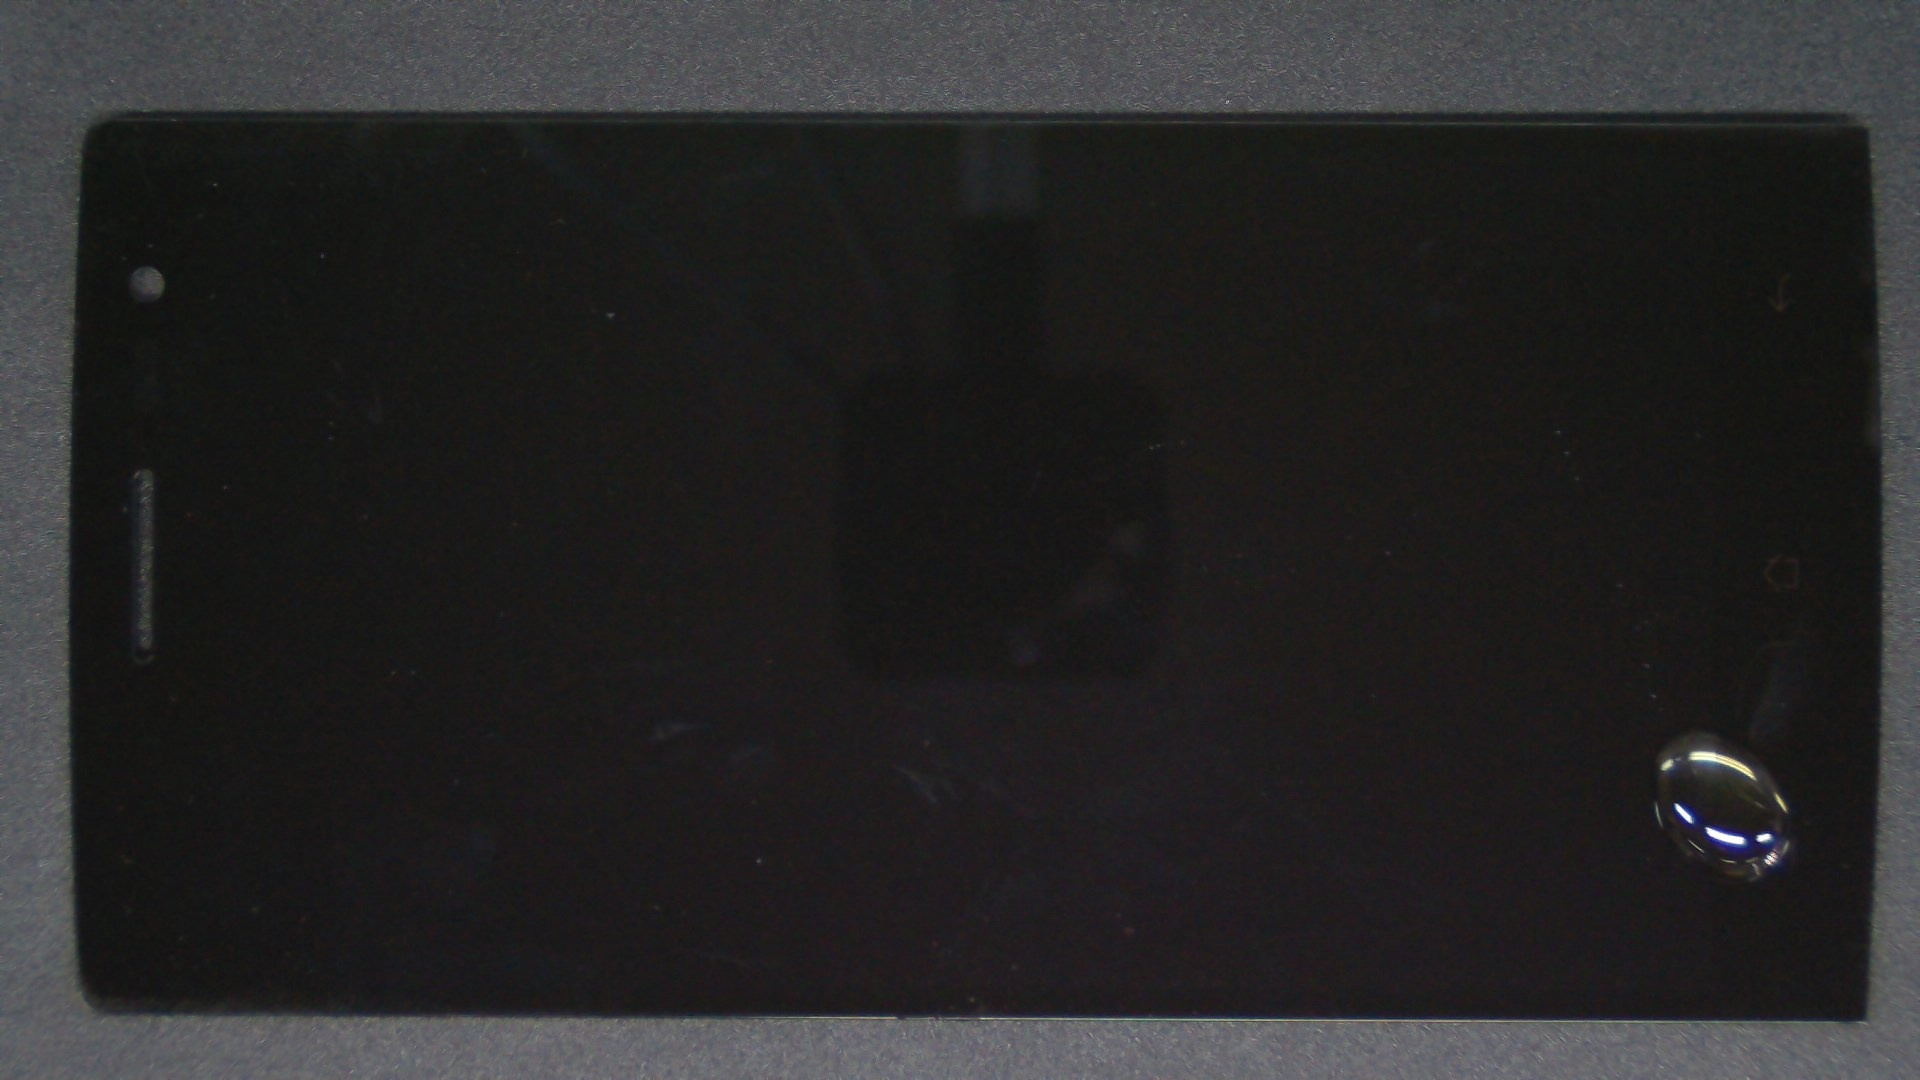oil: (849, 365, 1920, 1080)
